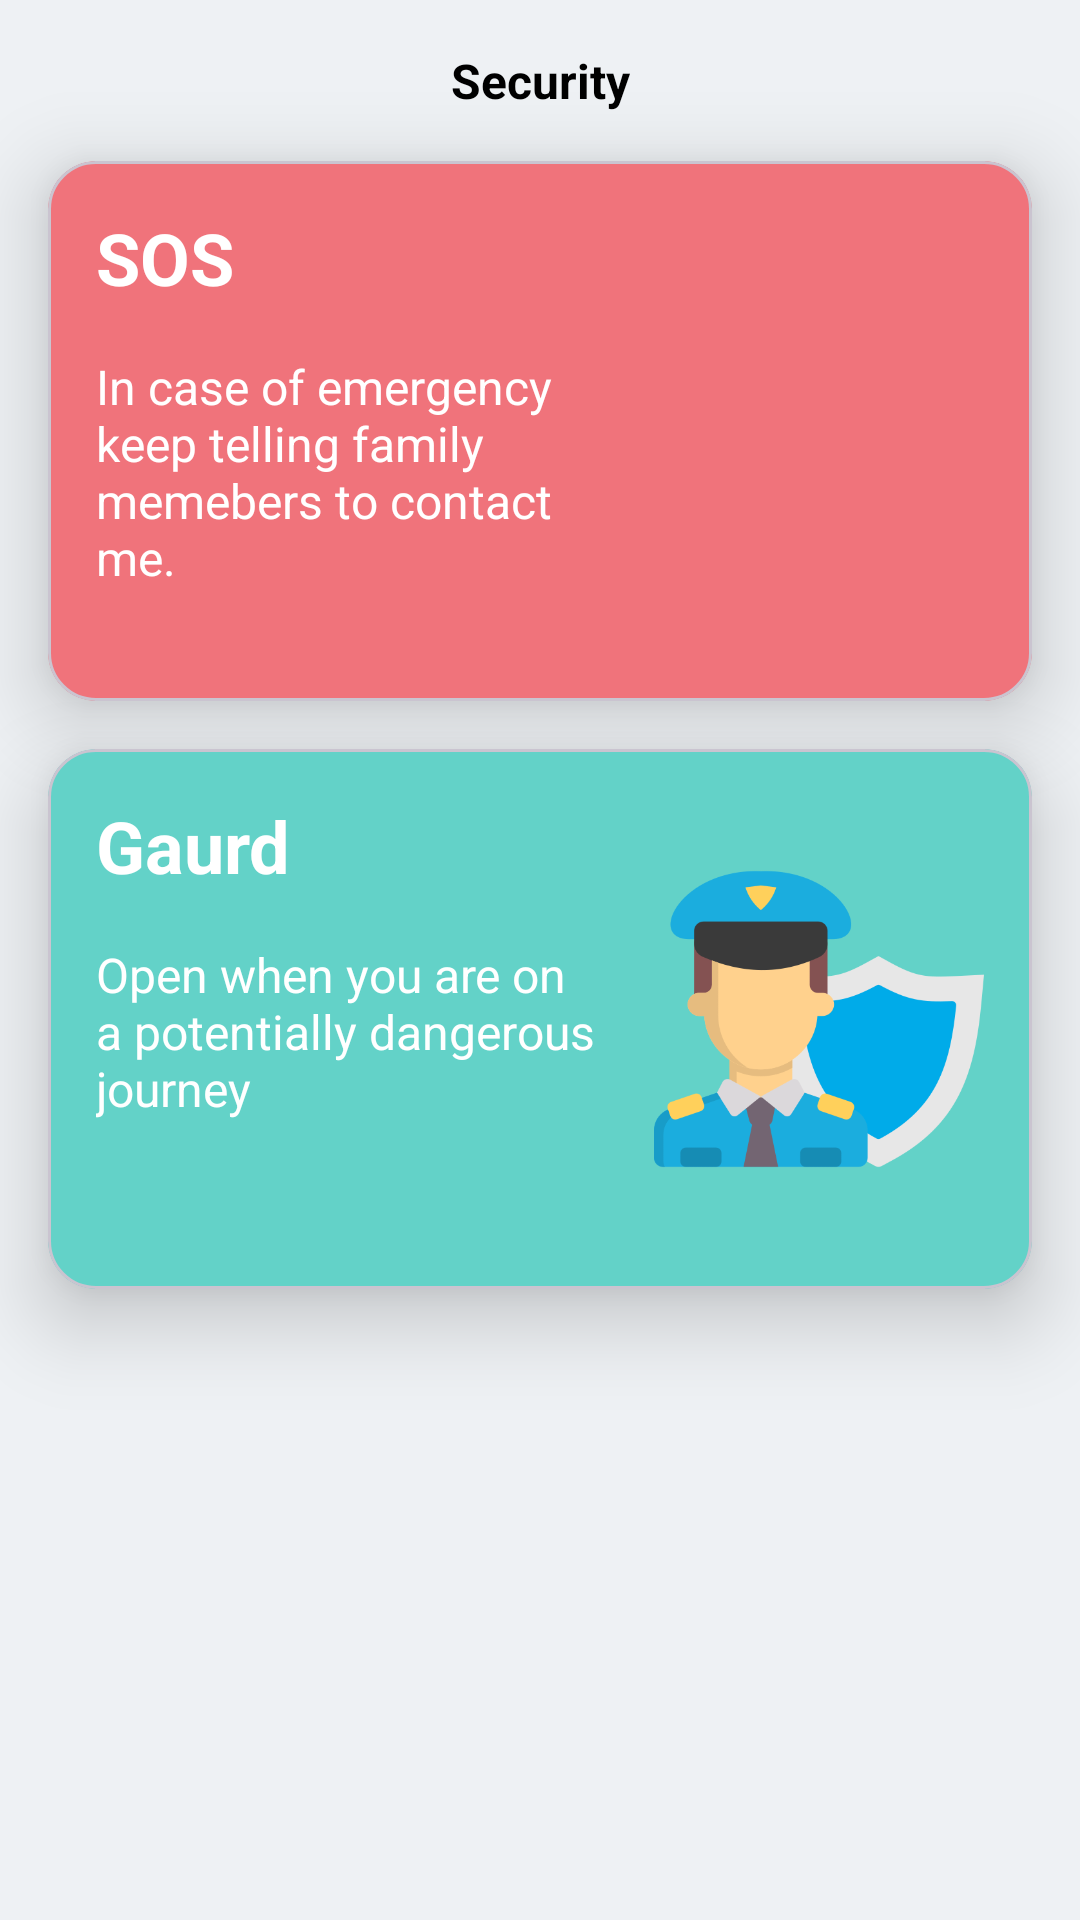

Screen size 1080 × 1920. Icon name, then its box in pixels as (left=x1, top=y1, right=x2, bottom=y2):
police: (left=654, top=871, right=984, bottom=1167)
